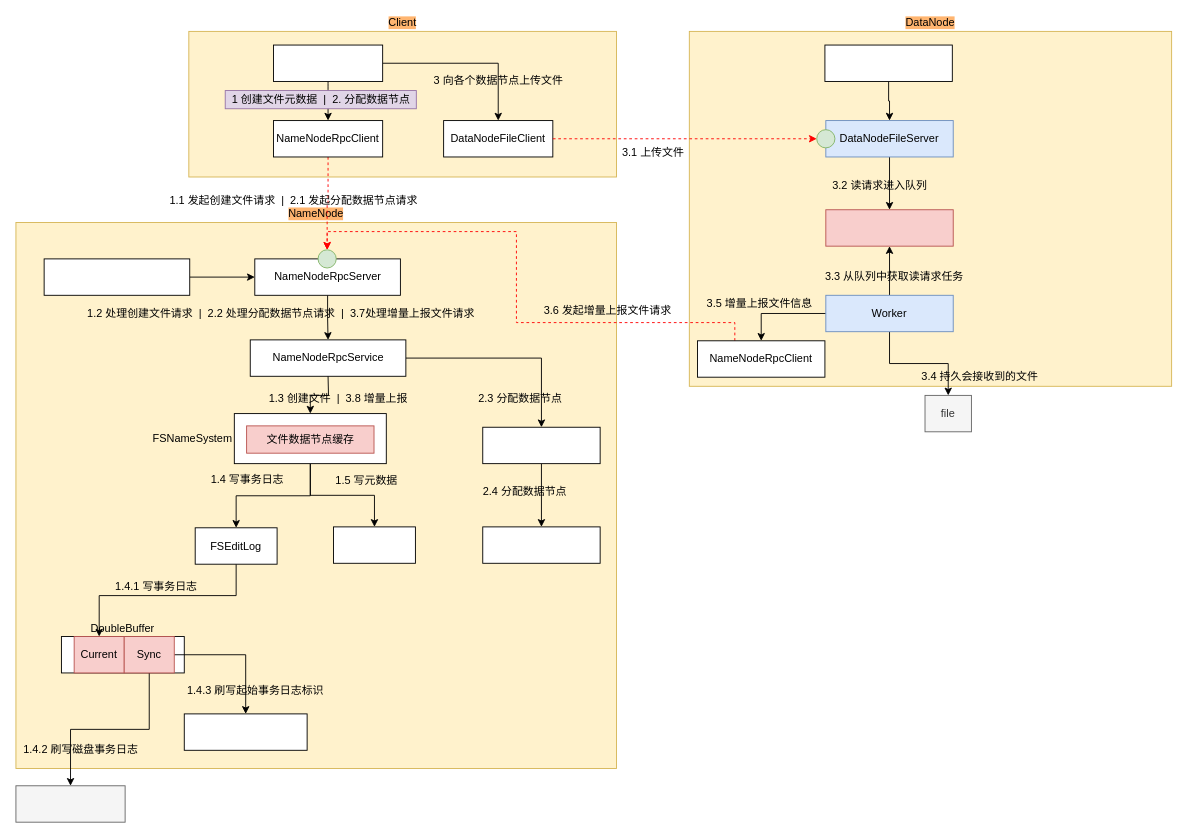
The diagram is 1188 pixels wide and 838 high, and some of its shapes have lost their labels. The shapes that lost their labels are listed below. From the top down, each one's box as (x1, y1, x2, y2) in pixels, then its label:
(273, 44, 383, 81): FileSystemImpl
(824, 44, 952, 81): DataNodeServer
(825, 209, 953, 246): LinkedBlockingQueue
(43, 258, 190, 295): NameNodeServer
(482, 426, 600, 464): DataNodeManager
(333, 526, 415, 563): FSDirectory
(482, 526, 600, 563): DataNodeAllocator
(183, 713, 307, 750): RuntimeRepository
(15, 785, 125, 822): edits-x-y.log
